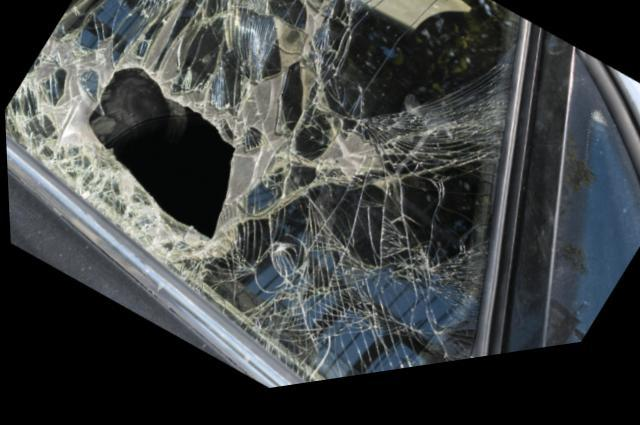glass shatter: (4, 0, 517, 392)
